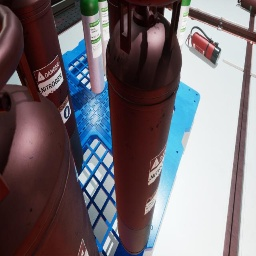0: (80, 0, 105, 94), (171, 0, 191, 53), (98, 0, 110, 75)
FireExtinguisher ]: (185, 26, 221, 65)
NitrogenTank ,: (0, 4, 100, 256), (106, 0, 182, 255), (0, 0, 83, 174), (107, 0, 134, 38), (237, 0, 256, 14)
